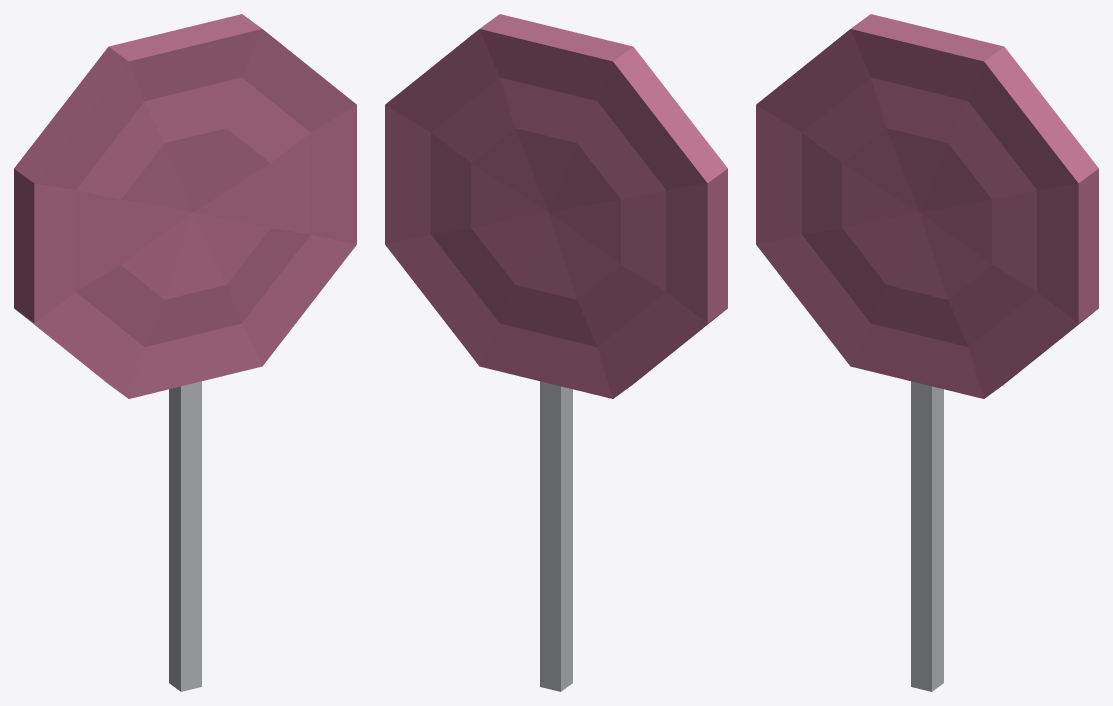
Rendered from SM_Prop_Sign_Lollypop_01.fbx.
3 renders of one model, left to right at view 1: azimuth 30°, elevation 25°; view 2: azimuth 150°, elevation 25°; view 3: azimuth 330°, elevation 25°, orthographic.
Parts seen in each view (by area): view 1: SM_Prop_Sign_Lollypop_01; view 2: SM_Prop_Sign_Lollypop_01; view 3: SM_Prop_Sign_Lollypop_01.
Boxes of the visible parts, box(x1,y1,x2,y2) form: SM_Prop_Sign_Lollypop_01: box(14, 14, 356, 691); SM_Prop_Sign_Lollypop_01: box(385, 14, 727, 691); SM_Prop_Sign_Lollypop_01: box(756, 14, 1098, 691).
Bounding box in the file's own units: 62 × 119 × 6.78.
